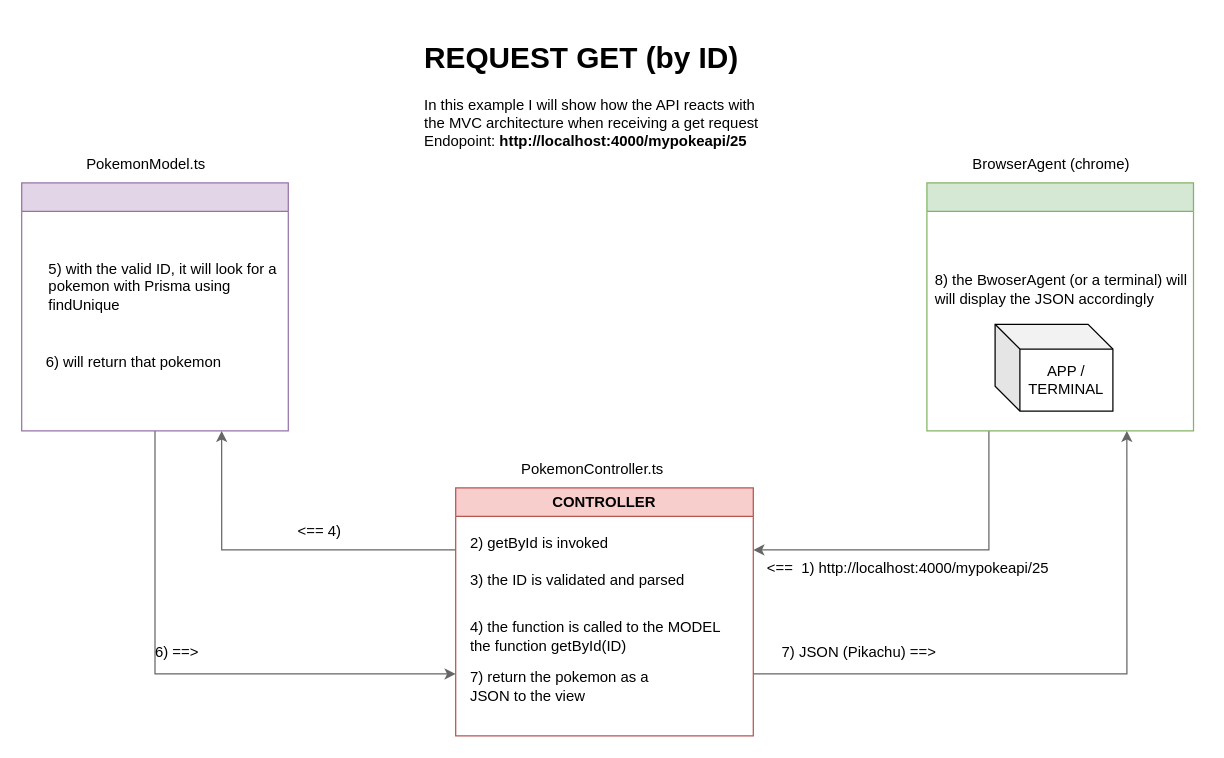
Some shapes in this 1224 by 758 pixel diagram are drawn without their labels. Each missing label, with the box of its shape:
MODEL: (20, 182, 288, 431)
VIEW: (926, 182, 1194, 431)
